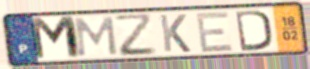D: (234, 8, 274, 52)
E: (194, 10, 236, 54)
K: (158, 13, 193, 54)
M: (27, 15, 84, 63), (73, 15, 120, 58)
Z: (111, 12, 159, 58)
